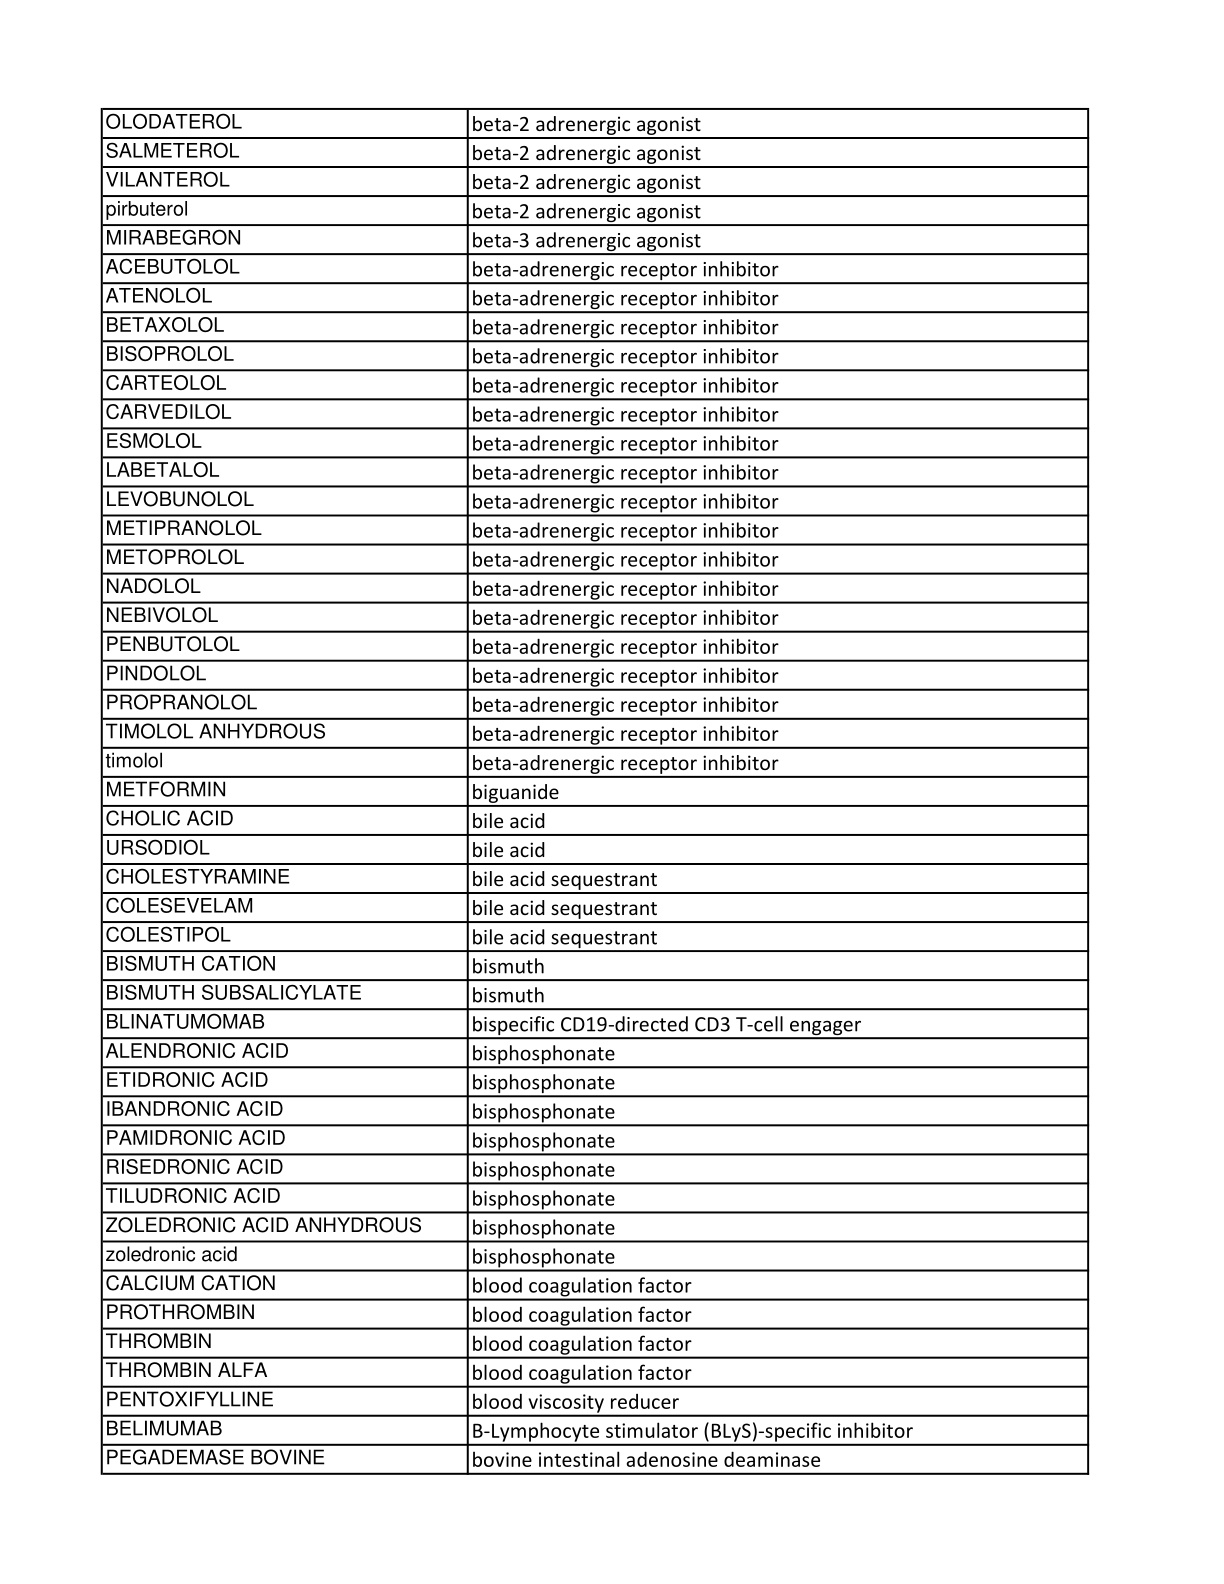full_lined: (99, 107, 1090, 1476)
